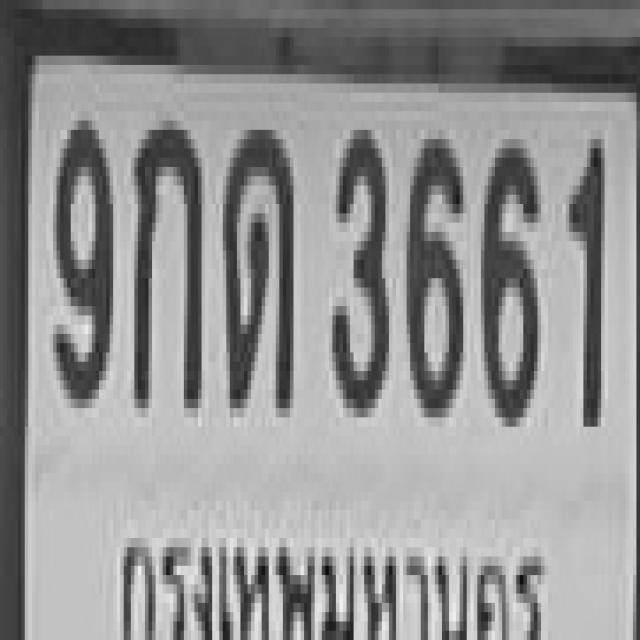1: (566, 130, 601, 417)
10GorGai: (131, 111, 198, 399)
29DorDek: (219, 116, 290, 403)
3: (329, 121, 385, 408)
6: (478, 130, 538, 417), (403, 130, 460, 408)
9: (50, 111, 110, 399)
Bangkok: (103, 504, 559, 640)
